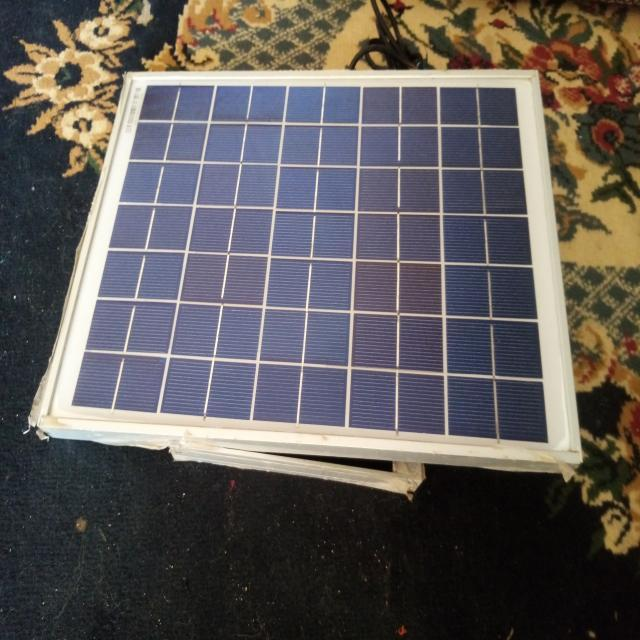no faulty: (42, 70, 577, 462)
